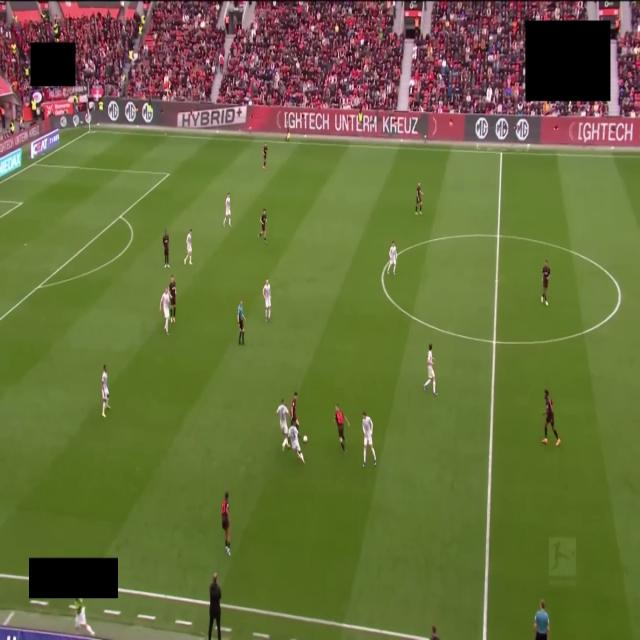ball: (303, 436, 307, 443)
player: (542, 390, 560, 446), (362, 412, 376, 466), (276, 399, 289, 450), (335, 405, 349, 452), (424, 344, 436, 395), (289, 424, 304, 463), (221, 492, 230, 555), (160, 288, 170, 335), (541, 261, 550, 305), (102, 365, 109, 417), (387, 242, 397, 275), (169, 275, 176, 322), (263, 280, 271, 321), (290, 392, 299, 426), (223, 192, 231, 227), (259, 209, 267, 242), (184, 230, 191, 264), (415, 183, 422, 215), (163, 231, 169, 268), (263, 144, 267, 169)
referee: (237, 300, 244, 344)
